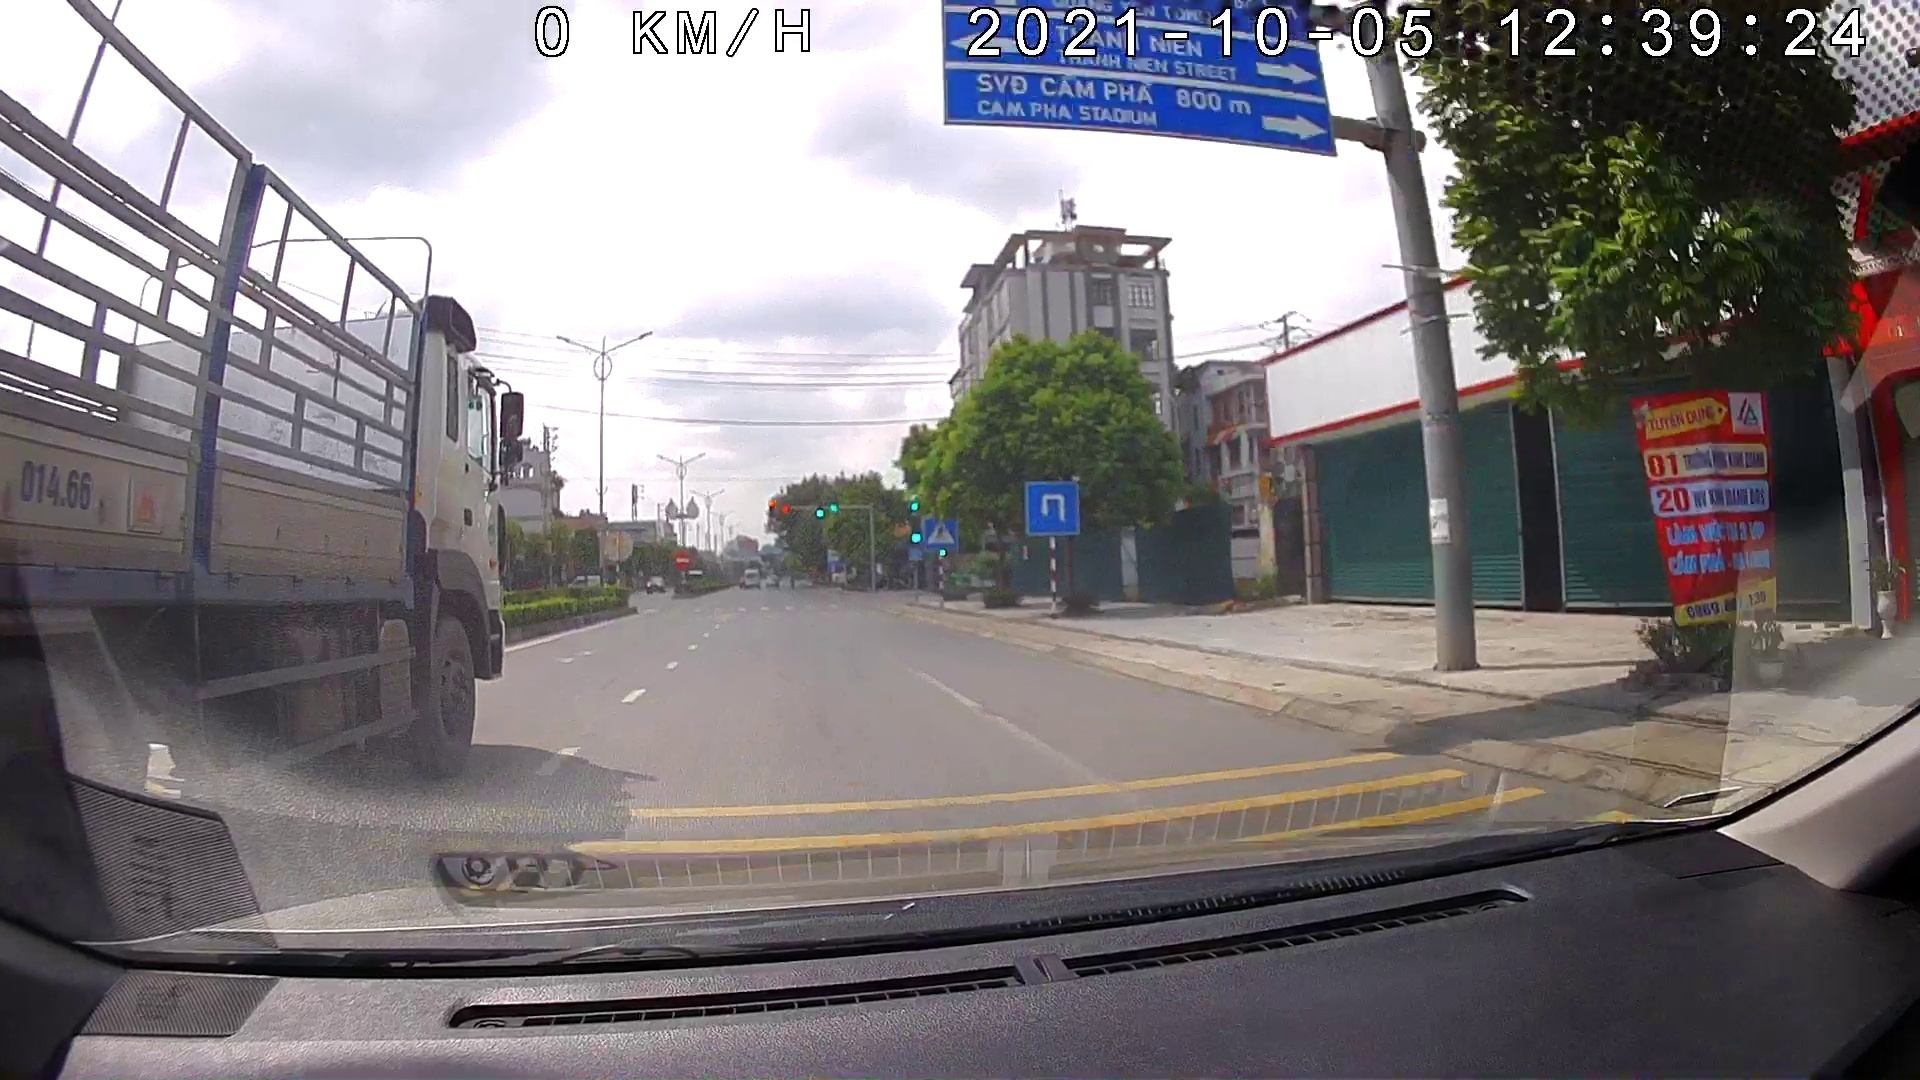Bien khac: (1021, 479, 1080, 537)
Cam di nguoc chieu: (670, 551, 690, 568)
Nguoi di bo: (924, 514, 957, 553)
